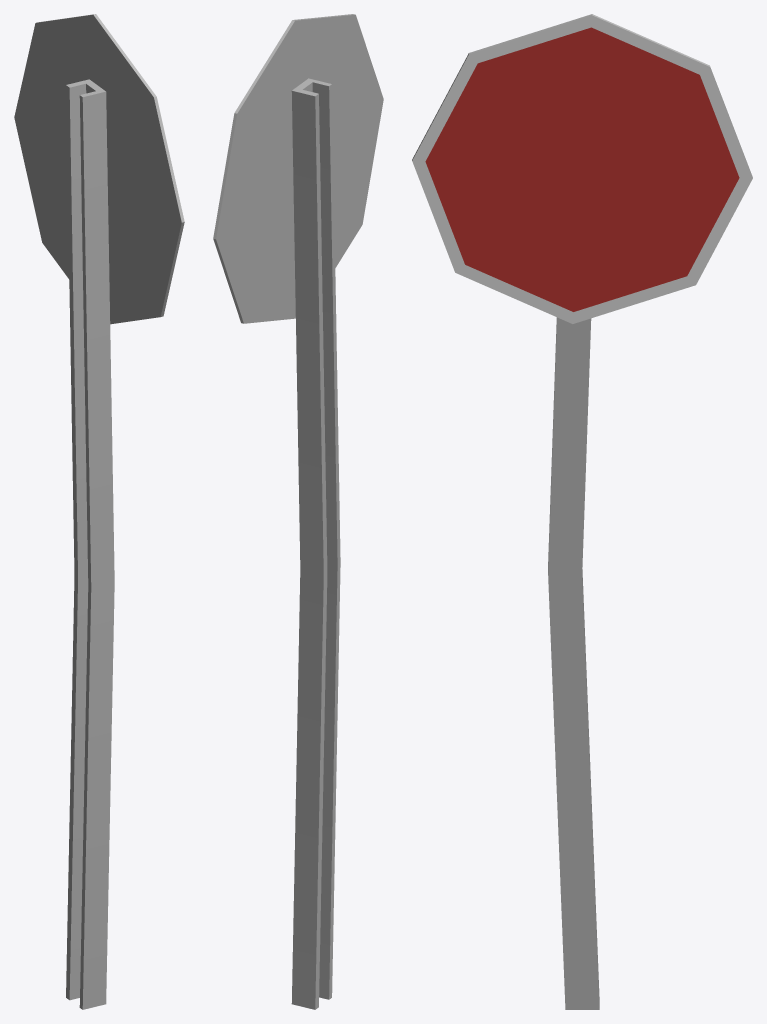
The model's file is stopSign.fbx.
3 renders of one model, left to right at view 1: azimuth 30°, elevation 25°; view 2: azimuth 150°, elevation 25°; view 3: azimuth 270°, elevation 25°, orthographic.
Visible parts, largest first — view 1: sign; view 2: sign; view 3: sign.
Boxes of the visible parts, <box> form: sign: <box>14,14,184,1009</box>; sign: <box>213,14,383,1009</box>; sign: <box>412,14,752,1009</box>.
Size of the model in its own units: 0.0915 by 3.22 by 0.9984.
